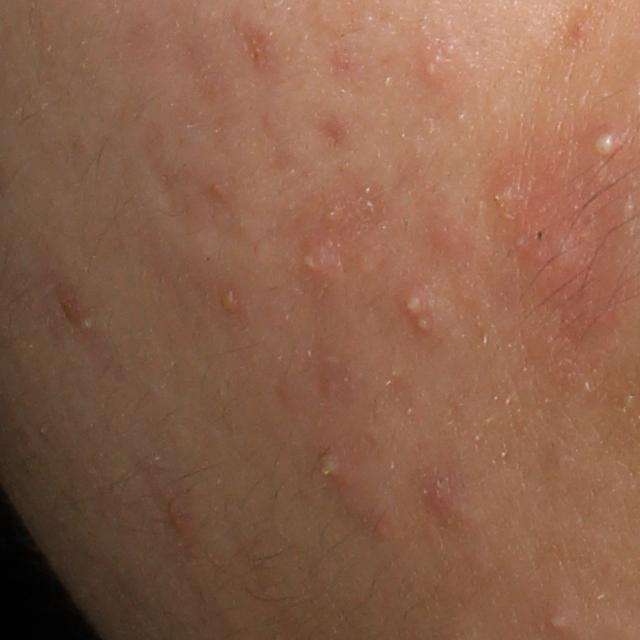papule: (480, 174, 601, 278), (52, 280, 93, 332)
pustule: (583, 121, 629, 163), (544, 608, 573, 638), (402, 291, 427, 320), (413, 315, 435, 335)
